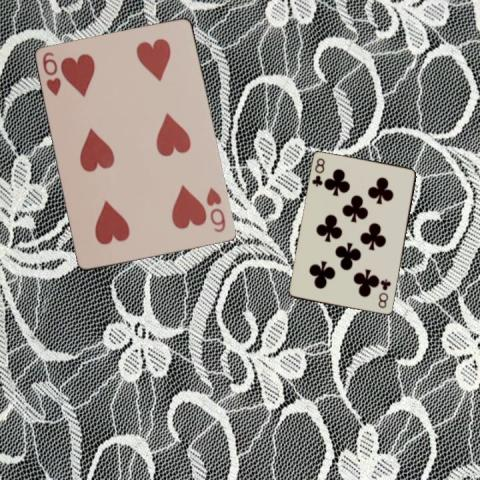6h: (204, 185, 228, 234), (39, 49, 63, 98)
8c: (375, 276, 393, 310), (309, 155, 327, 188)
